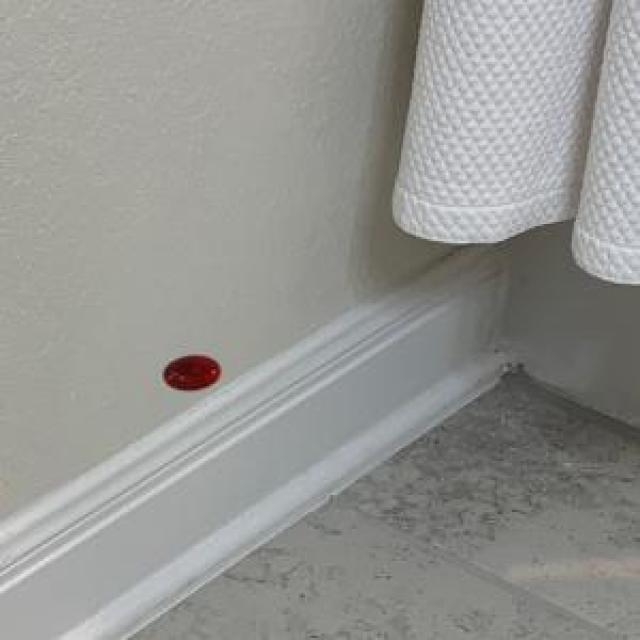Medicol: (155, 347, 230, 399)
